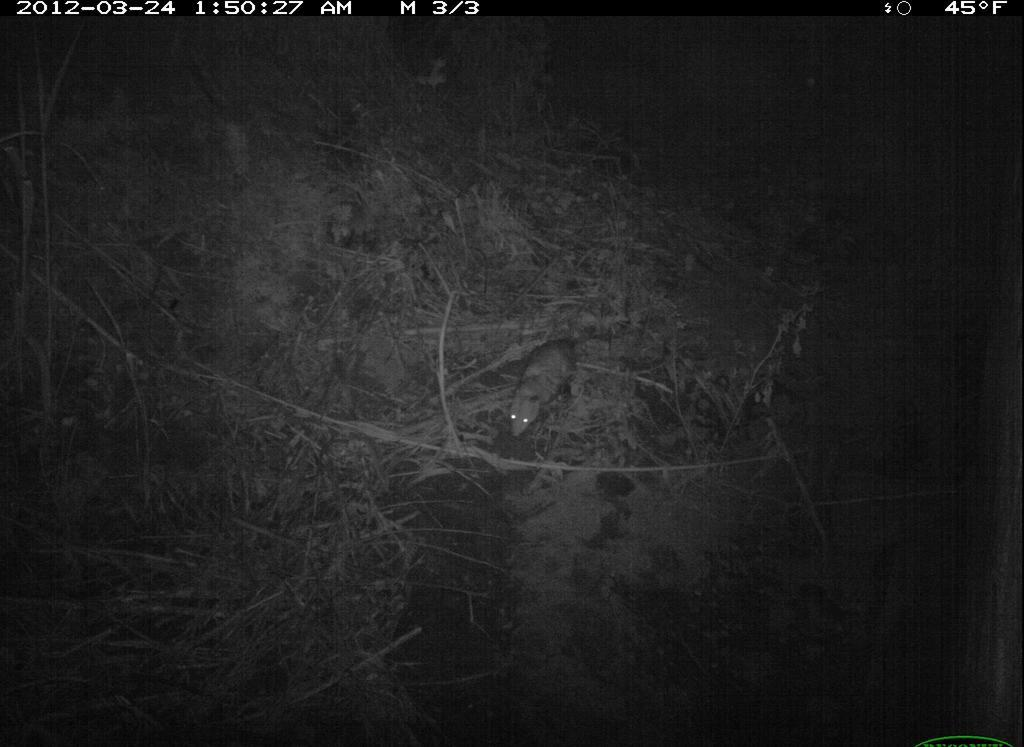opossum: (504, 318, 603, 447)
